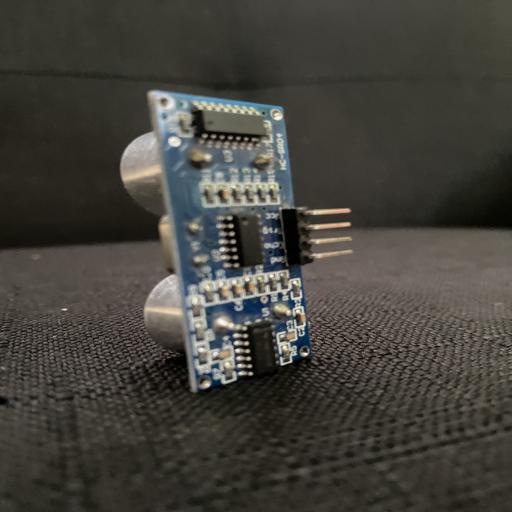Ultrasonic Sensor: (120, 88, 355, 394)
